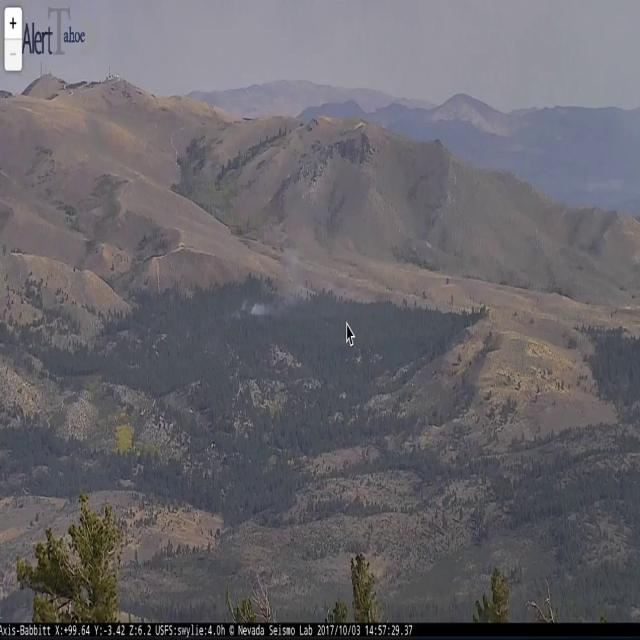smoke: (233, 248, 309, 320)
